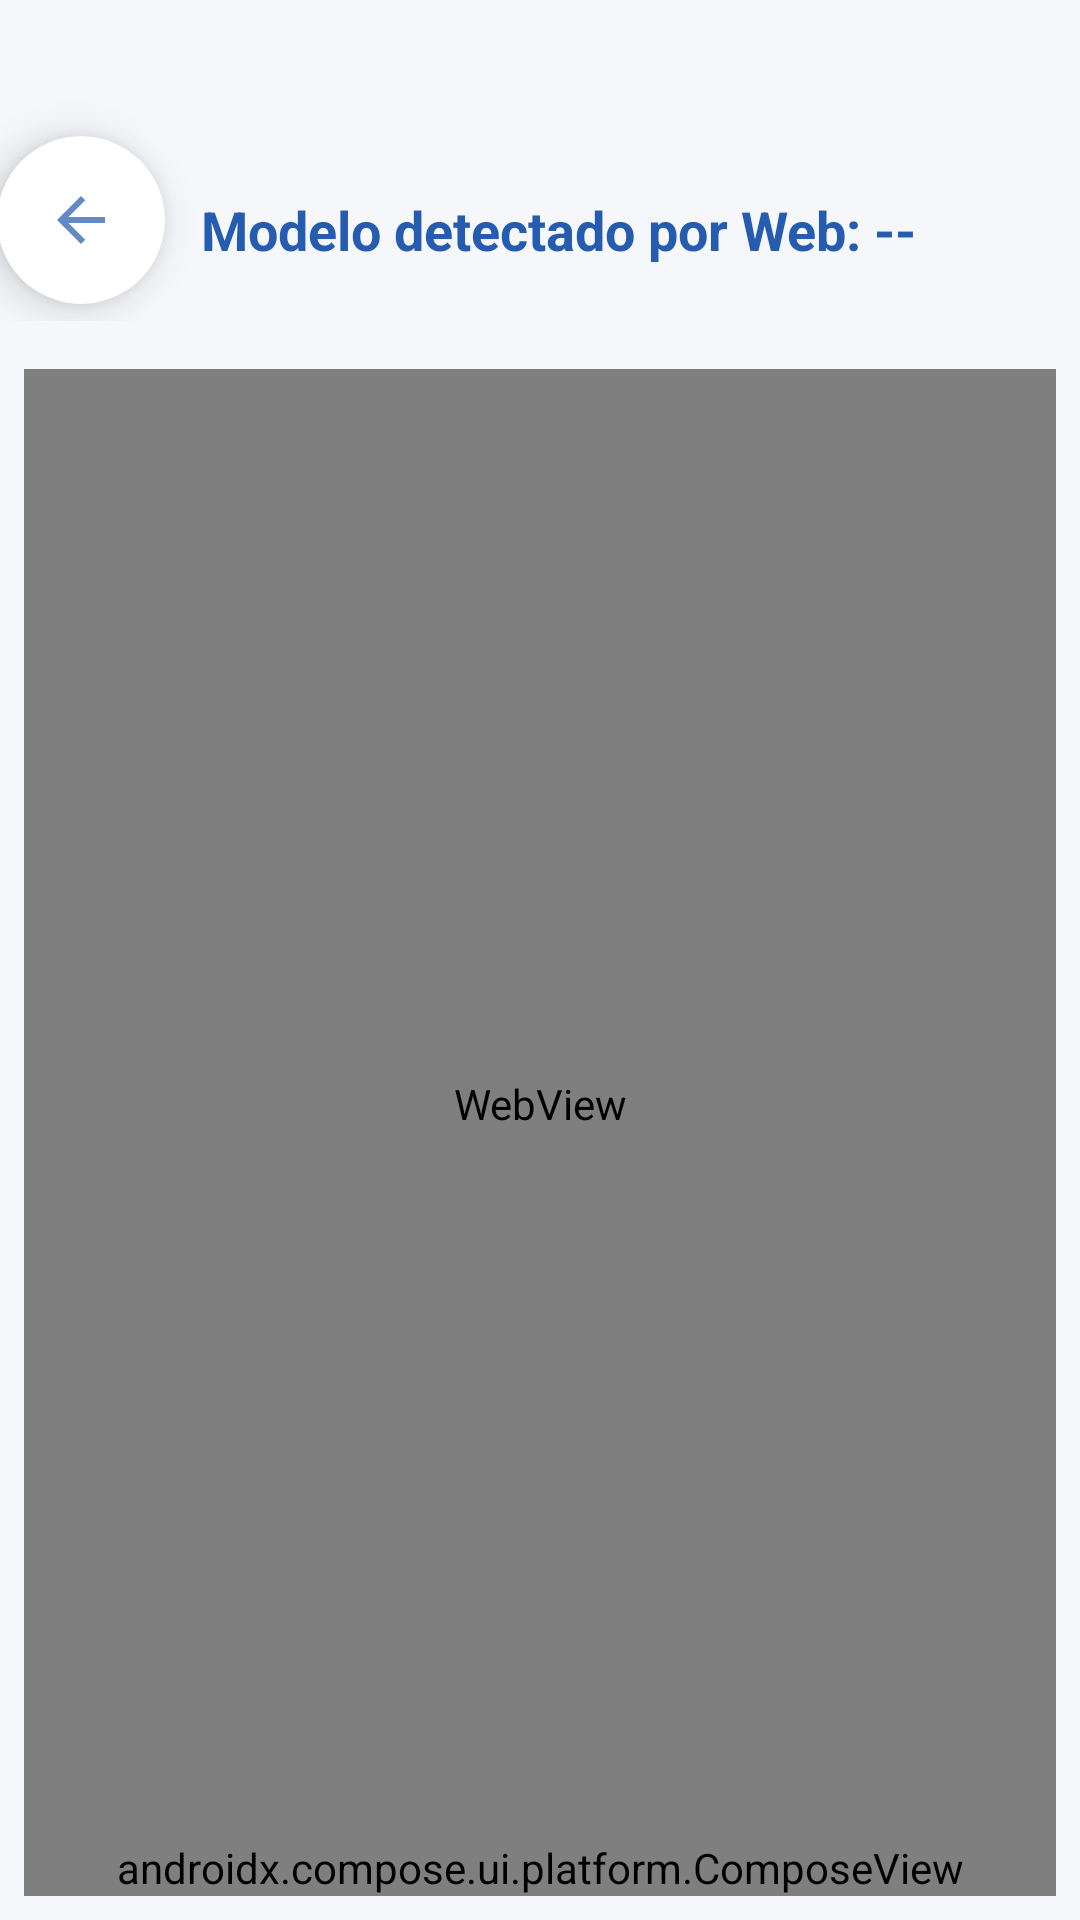

Where to tap for icons on this 1080*1920 app screen, as (x,y):
Atrás: (82,220)
